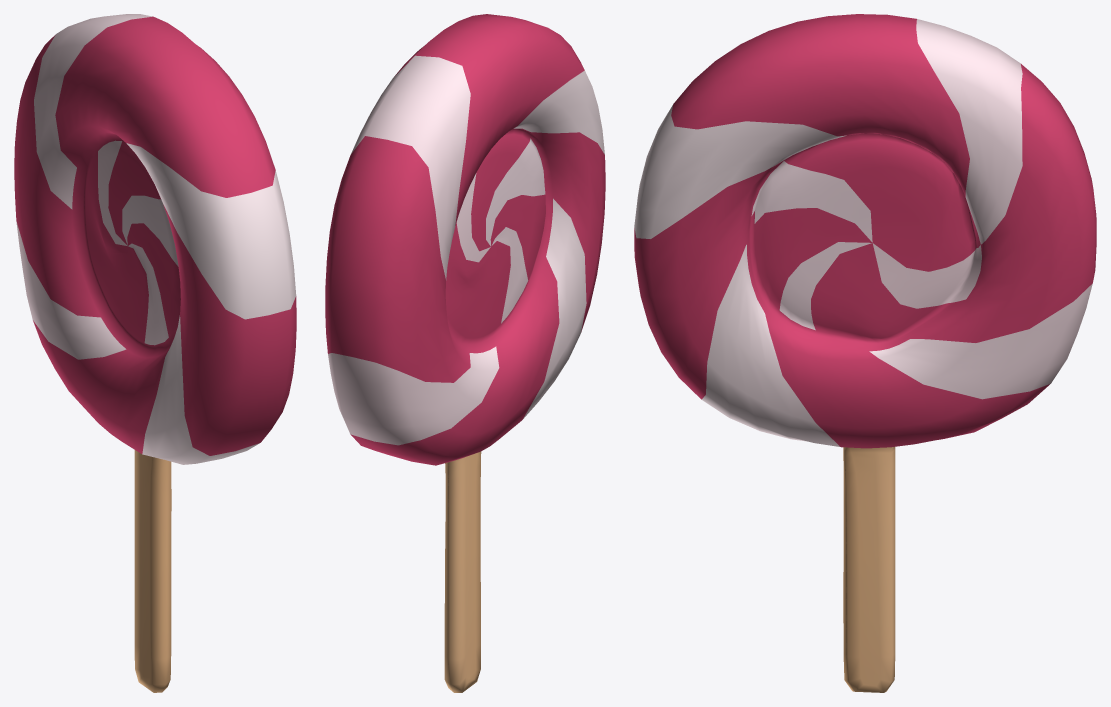
File: IceCream_0001_0024.fbx
3 views of the same model, side by side, from view 1: azimuth 30°, elevation 25°; view 2: azimuth 150°, elevation 25°; view 3: azimuth 270°, elevation 25° (orthographic). The views are drawn at different scales.
Parts seen in each view (by area): view 1: Ice_0001_0024; view 2: Ice_0001_0024; view 3: Ice_0001_0024.
Part boxes in pixels (left/top/right/bottom): Ice_0001_0024: left=14, top=14, right=296, bottom=692; Ice_0001_0024: left=325, top=14, right=605, bottom=692; Ice_0001_0024: left=634, top=14, right=1096, bottom=692.
Size of the model in its own units: 0.0199 by 0.1328 by 0.0833.
1 material, 1 textured.
